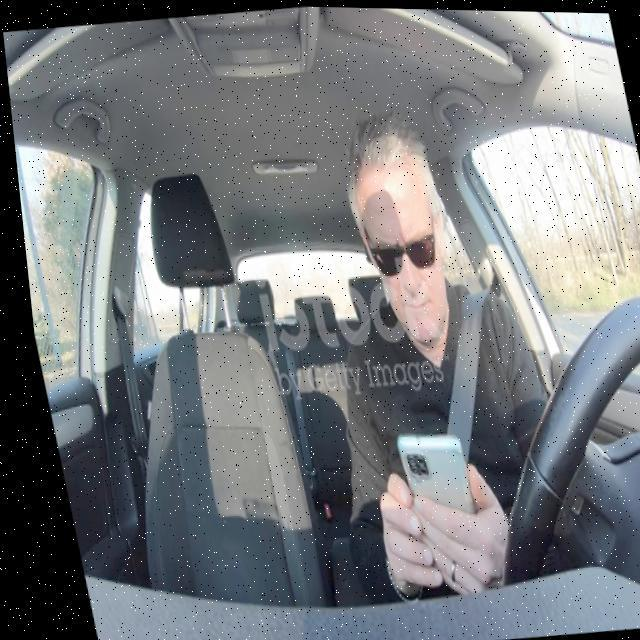PhoneCall: (382, 425, 481, 596)
